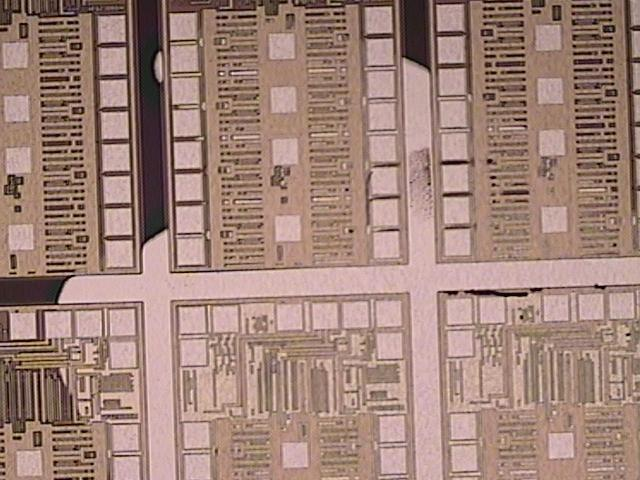COATING BAD: (42, 27, 640, 480)
